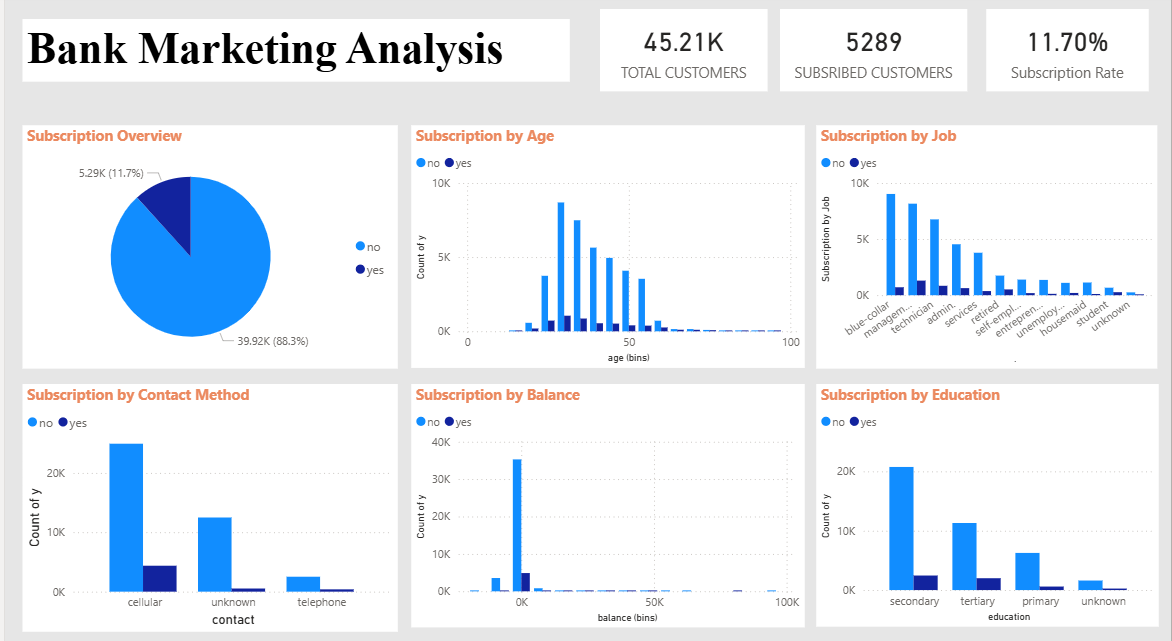

This screenshot's page, from the dashboard's own definition file:
{"tool":"powerbi","page":{"name":"Page 1","canvas":[1280,720],"ordinal":0},"visuals":[{"type":"pieChart","title":"Subscription Overview","fields":{"Category":["bank-full.y"],"Y":["CountNonNull(bank-full.y)"]},"box":[19.2,144.1,411.7,267.6],"z":0},{"type":"card","fields":{"Values":["CountNonNull(bank-full.y)"]},"box":[653.2,16.5,183.9,90.6],"z":1000},{"type":"card","fields":{"Values":["CountNonNull(bank-full.y)"]},"box":[850.8,16.5,205.8,90.6],"z":2000},{"type":"card","fields":{"Values":["bank-full.Subscription Rate"]},"box":[1077.2,16.5,178.4,90.6],"z":3000},{"type":"clusteredColumnChart","title":"Subscription by Job","fields":{"Category":["bank-full.job"],"Y":["CountNonNull(bank-full.y)"],"Series":["bank-full.y"]},"box":[890.6,144.1,374.6,267.6],"z":4000},{"type":"clusteredColumnChart","title":"Subscription by Age","fields":{"Category":["bank-full.age (bins)"],"Y":["CountNonNull(bank-full.y)"],"Series":["bank-full.y"]},"box":[446,144.1,432.2,266.2],"z":5000},{"type":"clusteredColumnChart","title":"Subscription by Balance","fields":{"Category":["bank-full.balance (bins)"],"Y":["CountNonNull(bank-full.y)"],"Series":["bank-full.y"]},"box":[446,428.1,432.2,267.6],"z":6000},{"type":"clusteredColumnChart","title":"Subscription by Contact Method","fields":{"Category":["bank-full.contact"],"Y":["CountNonNull(bank-full.y)"],"Series":["bank-full.y"]},"box":[19.2,428.1,411.7,271.7],"z":7000},{"type":"clusteredColumnChart","title":"Subscription by Education","fields":{"Category":["bank-full.education"],"Y":["CountNonNull(bank-full.y)"],"Series":["bank-full.y"]},"box":[890.6,428.1,376,266.2],"z":8000},{"type":"textbox","box":[19.2,27.4,601,68.6],"z":8001}]}

Visuals, with their boxes in screenshot pixels (x1, y1, x2, y2), scaled from the page's 1280x720 canvas onto the 1172x641 screenshot:
"Subscription Overview" pieChart: [x1=18, y1=128, x2=395, y2=367]
card - CountNonNull(bank-full.y): [x1=598, y1=15, x2=766, y2=95]
card - CountNonNull(bank-full.y): [x1=779, y1=15, x2=967, y2=95]
card - bank-full.Subscription Rate: [x1=986, y1=15, x2=1150, y2=95]
"Subscription by Job" clusteredColumnChart: [x1=815, y1=128, x2=1158, y2=367]
"Subscription by Age" clusteredColumnChart: [x1=408, y1=128, x2=804, y2=365]
"Subscription by Balance" clusteredColumnChart: [x1=408, y1=381, x2=804, y2=619]
"Subscription by Contact Method" clusteredColumnChart: [x1=18, y1=381, x2=395, y2=623]
"Subscription by Education" clusteredColumnChart: [x1=815, y1=381, x2=1160, y2=618]
textbox: [x1=18, y1=24, x2=568, y2=85]
